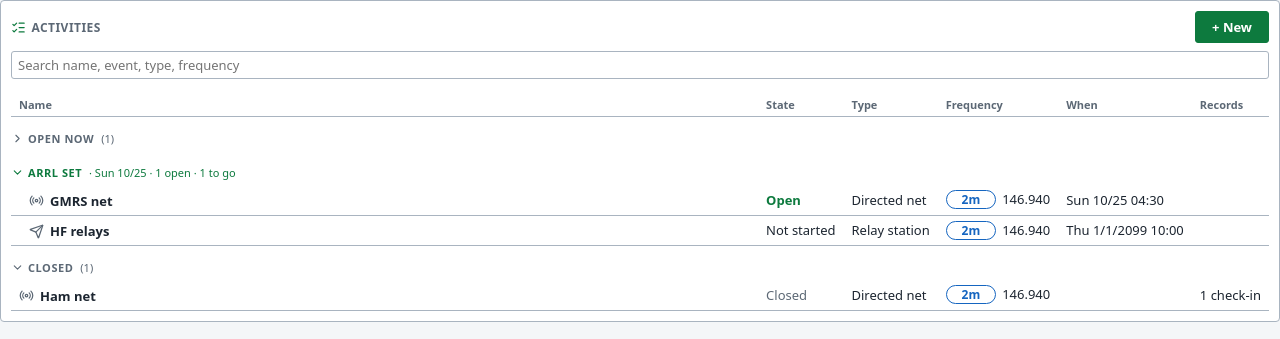
it: ActivitiesPanel (UX-OPS-015) › searches everything, showing each result's event
In the search field named "Search activities": [640, 65] box [11,51,1269,79], type "arrl"
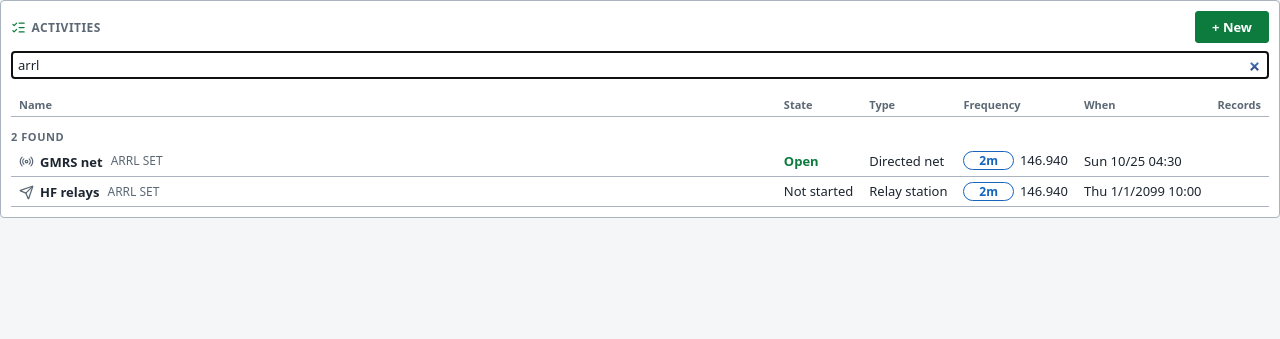
Expected: the row that starts with "GMRS net" shows "ARRL SET", [111,152,163,169]
Expected: the row that starts with "HF relays" shows "ARRL SET", [108,182,159,200]
